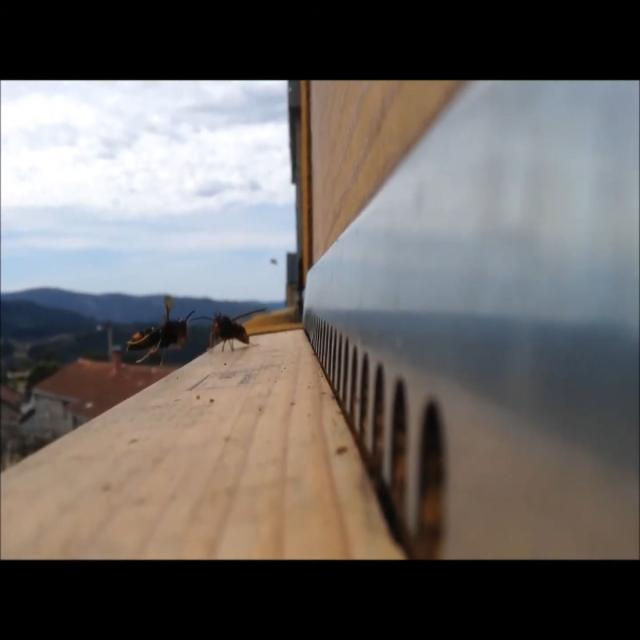Hornets: (120, 301, 198, 367), (189, 306, 266, 355)
